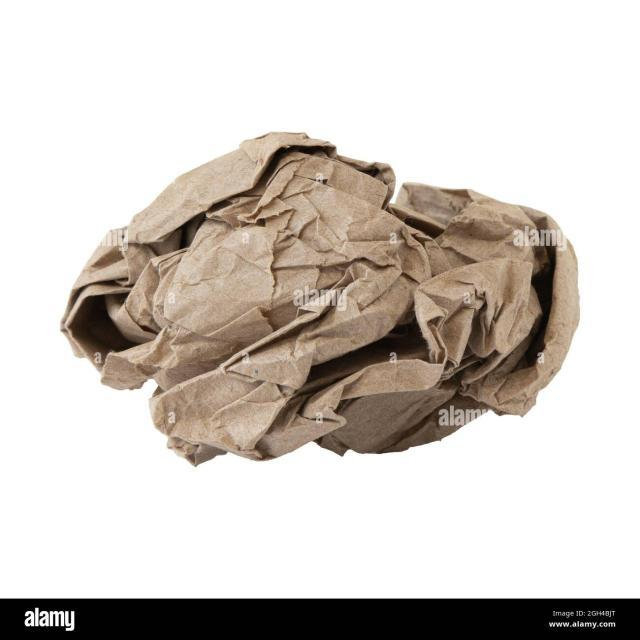Paper: (60, 132, 582, 469)
